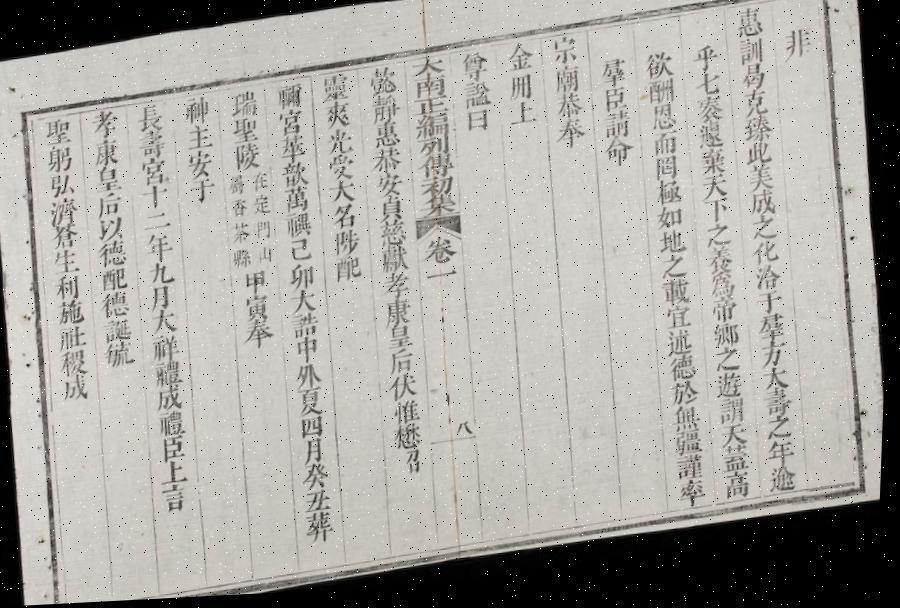c: (778, 32, 816, 71), (422, 238, 461, 273), (304, 513, 342, 548), (731, 12, 767, 48), (640, 54, 678, 88), (503, 44, 538, 80), (601, 142, 638, 176), (364, 68, 402, 101), (412, 116, 453, 146), (417, 156, 458, 186), (546, 40, 582, 74), (768, 471, 806, 503), (419, 197, 462, 225), (596, 60, 631, 94), (87, 108, 123, 141), (179, 96, 215, 129), (39, 115, 76, 147), (226, 90, 263, 122), (676, 484, 714, 515), (378, 248, 416, 279), (143, 232, 178, 265), (161, 485, 197, 517), (42, 143, 78, 175), (46, 195, 82, 227), (554, 124, 590, 156), (600, 116, 636, 148), (382, 301, 418, 333), (460, 84, 496, 116), (242, 321, 278, 353), (410, 79, 451, 107), (96, 239, 133, 270), (740, 122, 778, 152), (720, 452, 758, 482), (134, 103, 168, 136), (459, 54, 492, 88), (757, 320, 792, 352), (135, 130, 170, 162), (762, 395, 798, 426), (318, 75, 354, 106), (150, 334, 186, 365), (156, 410, 192, 441), (152, 361, 189, 391), (660, 283, 697, 313), (103, 341, 140, 371), (99, 291, 136, 321), (184, 150, 218, 182), (296, 389, 330, 421), (323, 130, 358, 161), (665, 333, 700, 364), (667, 360, 703, 390), (722, 478, 758, 508), (694, 128, 730, 158), (388, 376, 424, 406), (60, 374, 96, 404), (717, 403, 753, 433), (693, 102, 729, 132), (380, 275, 416, 305), (324, 157, 360, 187), (696, 154, 732, 184), (652, 184, 688, 214), (714, 378, 750, 408), (644, 84, 680, 114), (368, 98, 404, 128), (320, 104, 356, 134), (50, 247, 86, 277), (669, 385, 706, 414), (91, 138, 124, 170), (332, 231, 366, 262), (91, 165, 125, 196), (138, 157, 172, 188), (735, 44, 769, 75), (418, 179, 460, 204), (55, 298, 90, 328), (230, 144, 265, 174), (58, 349, 93, 379), (273, 84, 308, 114), (228, 118, 263, 148), (552, 96, 587, 126), (709, 302, 744, 332), (744, 171, 779, 201), (766, 445, 802, 474), (676, 460, 712, 489), (56, 324, 92, 353), (672, 411, 708, 440), (393, 425, 429, 454), (408, 58, 448, 84), (552, 70, 584, 102), (690, 49, 722, 81), (648, 109, 681, 140), (759, 347, 793, 377), (707, 278, 741, 308), (750, 246, 784, 276), (740, 96, 774, 126), (302, 464, 336, 494), (45, 170, 79, 200), (294, 364, 328, 394), (183, 124, 217, 154), (277, 136, 311, 166), (274, 110, 308, 140), (334, 258, 368, 288), (659, 258, 693, 288), (748, 196, 782, 226), (674, 436, 709, 465), (371, 150, 406, 179), (410, 100, 452, 124), (242, 295, 274, 326), (692, 76, 725, 106), (376, 198, 409, 228), (378, 223, 412, 252), (374, 175, 408, 204), (52, 273, 86, 302), (283, 214, 317, 243), (752, 271, 786, 300), (706, 253, 740, 282), (155, 387, 189, 416), (761, 373, 796, 401), (699, 180, 734, 208), (101, 318, 136, 346), (506, 77, 537, 108), (288, 265, 320, 295), (704, 228, 736, 258), (712, 328, 745, 357), (329, 206, 362, 235), (290, 314, 323, 343), (371, 124, 404, 153), (280, 163, 313, 192), (714, 353, 747, 382), (737, 70, 770, 99), (664, 310, 698, 338), (748, 222, 782, 250), (654, 210, 688, 238), (657, 234, 691, 262), (98, 267, 132, 295), (392, 402, 426, 430), (416, 140, 454, 165), (719, 430, 754, 457), (50, 222, 82, 251), (388, 351, 420, 380), (162, 460, 194, 489), (600, 91, 632, 120), (282, 188, 314, 217), (95, 192, 127, 221), (160, 436, 192, 465), (766, 422, 799, 450), (95, 216, 128, 244), (289, 290, 322, 318), (293, 339, 326, 367), (327, 182, 361, 209), (424, 270, 462, 294), (302, 439, 332, 469), (650, 137, 682, 165), (188, 179, 220, 207), (150, 310, 182, 338), (754, 296, 788, 322), (304, 492, 338, 518), (509, 106, 540, 134), (386, 327, 418, 354), (146, 261, 178, 288), (140, 185, 172, 212), (702, 206, 735, 232), (744, 148, 777, 174), (142, 210, 176, 235), (242, 270, 272, 298), (148, 285, 178, 313), (653, 160, 683, 188), (464, 112, 494, 139), (288, 240, 318, 267), (300, 417, 330, 443), (403, 452, 429, 480), (230, 223, 255, 249), (251, 195, 275, 220), (226, 174, 249, 200), (232, 248, 256, 272), (250, 172, 273, 197), (229, 198, 252, 222), (254, 221, 276, 245), (257, 246, 278, 268), (456, 422, 479, 442)
